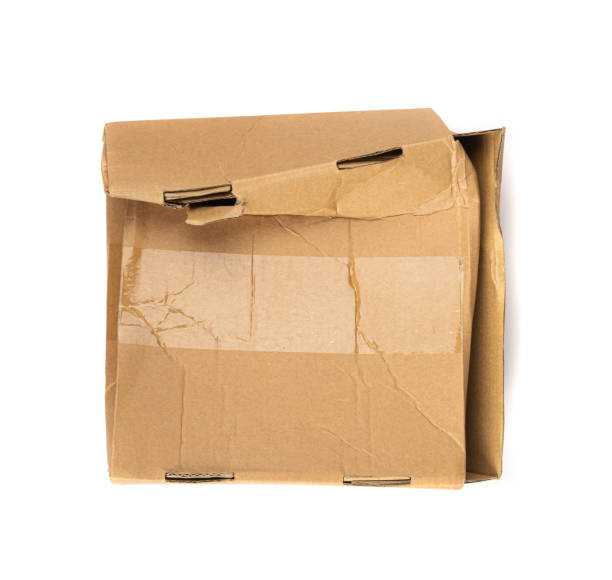damaged package: (443, 118, 515, 499), (163, 177, 261, 234), (340, 149, 410, 184)
